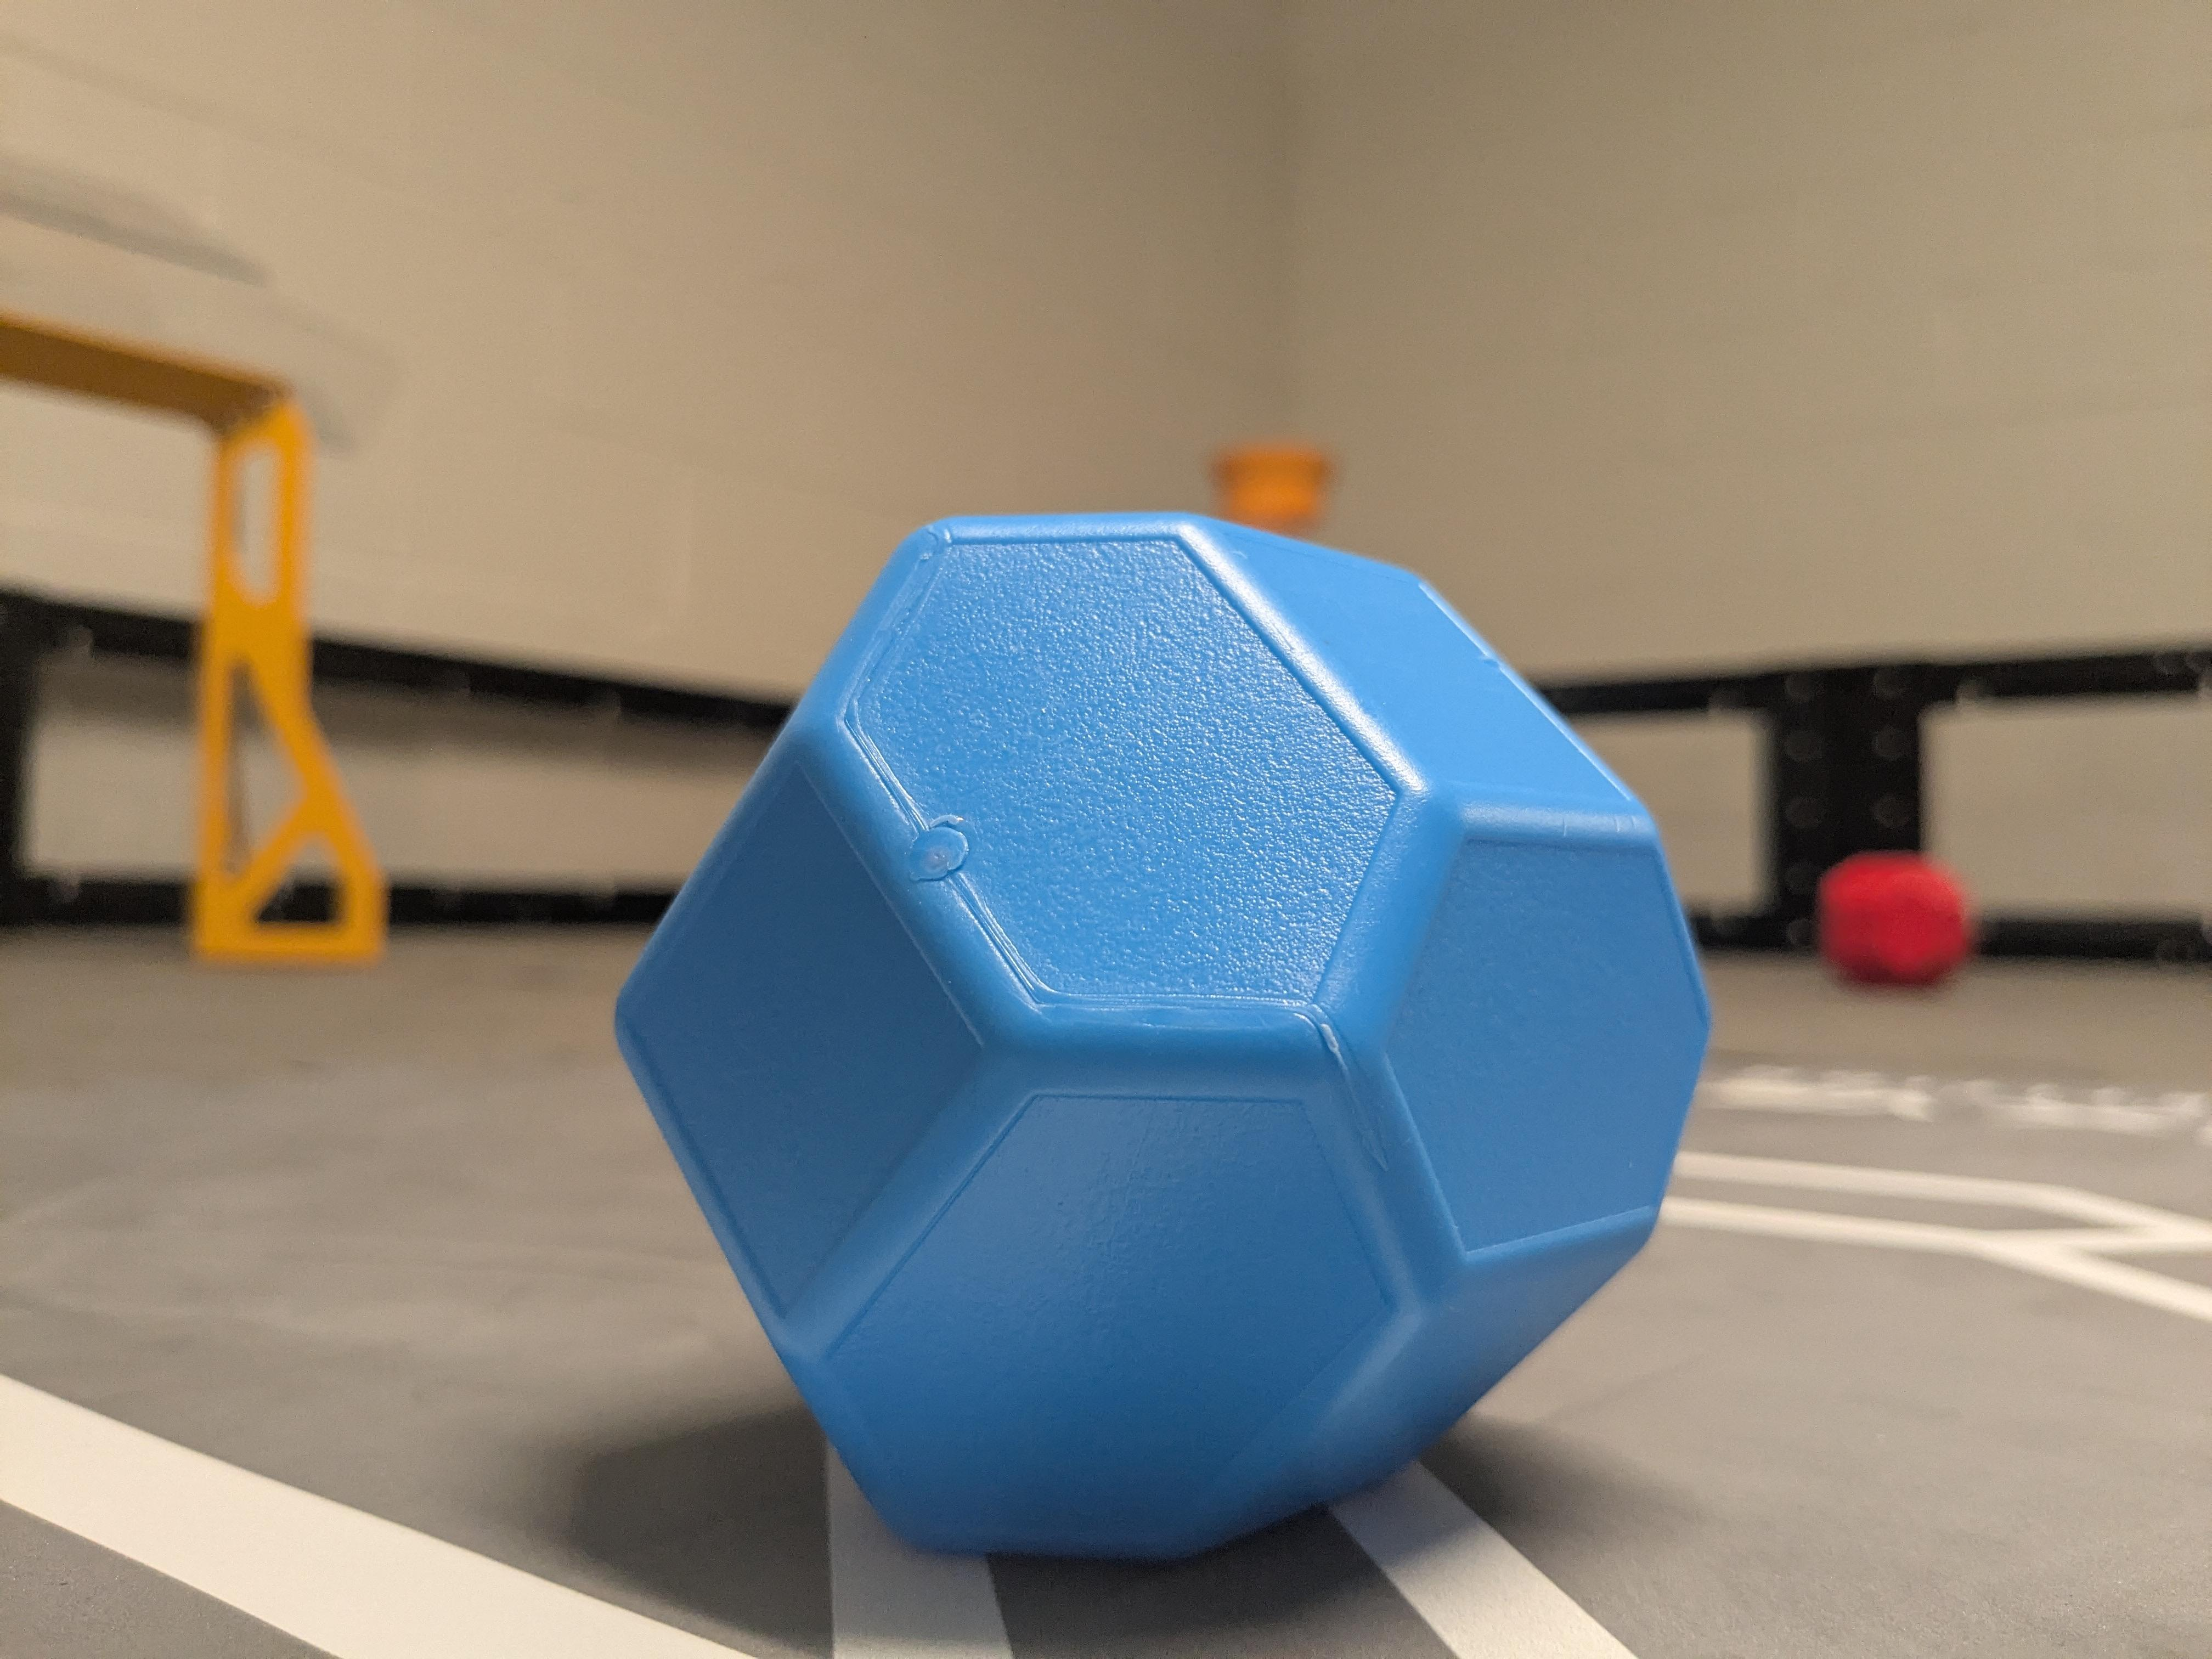Vex-Pieces-BLUE: (617, 512, 1709, 1556)
